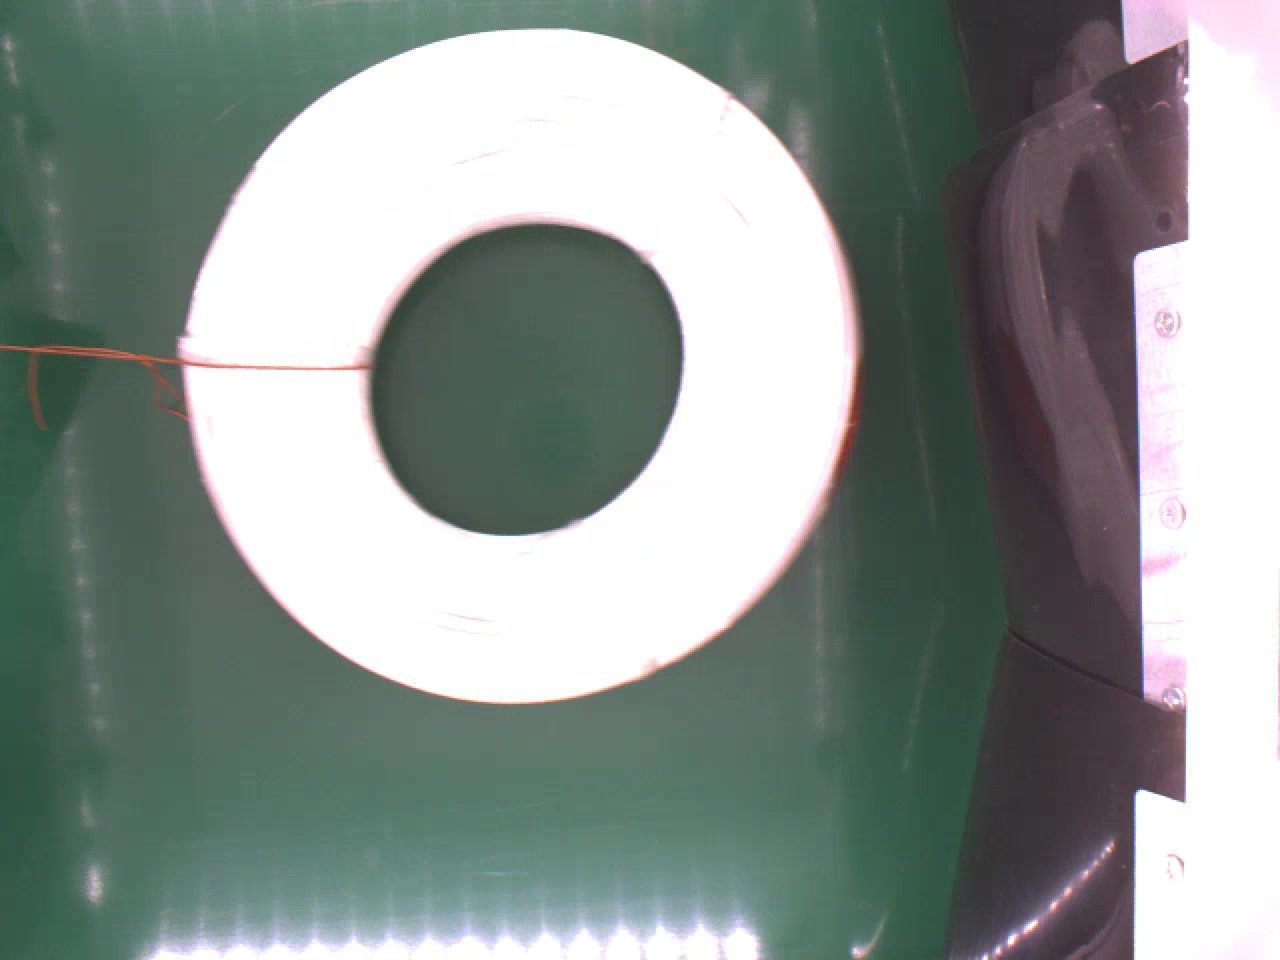white: (179, 24, 868, 700)
